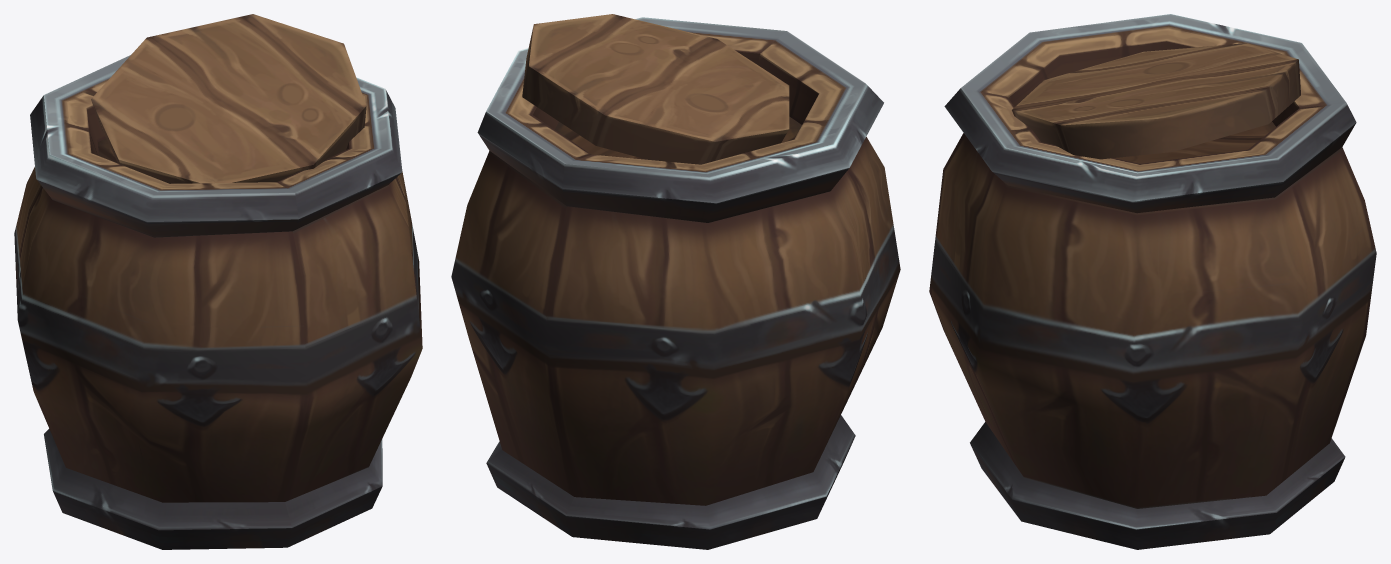
File: barrel_04.fbx
3 views of the same model, side by side, from view 1: azimuth 30°, elevation 25°; view 2: azimuth 150°, elevation 25°; view 3: azimuth 270°, elevation 25° (orthographic). The views are drawn at different scales.
Parts seen in each view (by area): view 1: barrel_04; view 2: barrel_04; view 3: barrel_04.
Boxes of the visible parts, bbox=[...] form: barrel_04: bbox=[14, 14, 422, 549]; barrel_04: bbox=[451, 14, 900, 549]; barrel_04: bbox=[929, 14, 1376, 549].
Size of the model in its own units: 102 by 105 by 98.92.
